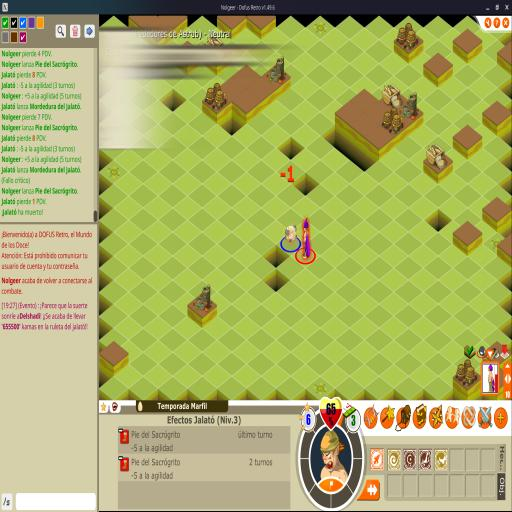Enemigos: (284, 224, 298, 244)
Personaje: (301, 217, 311, 259)
